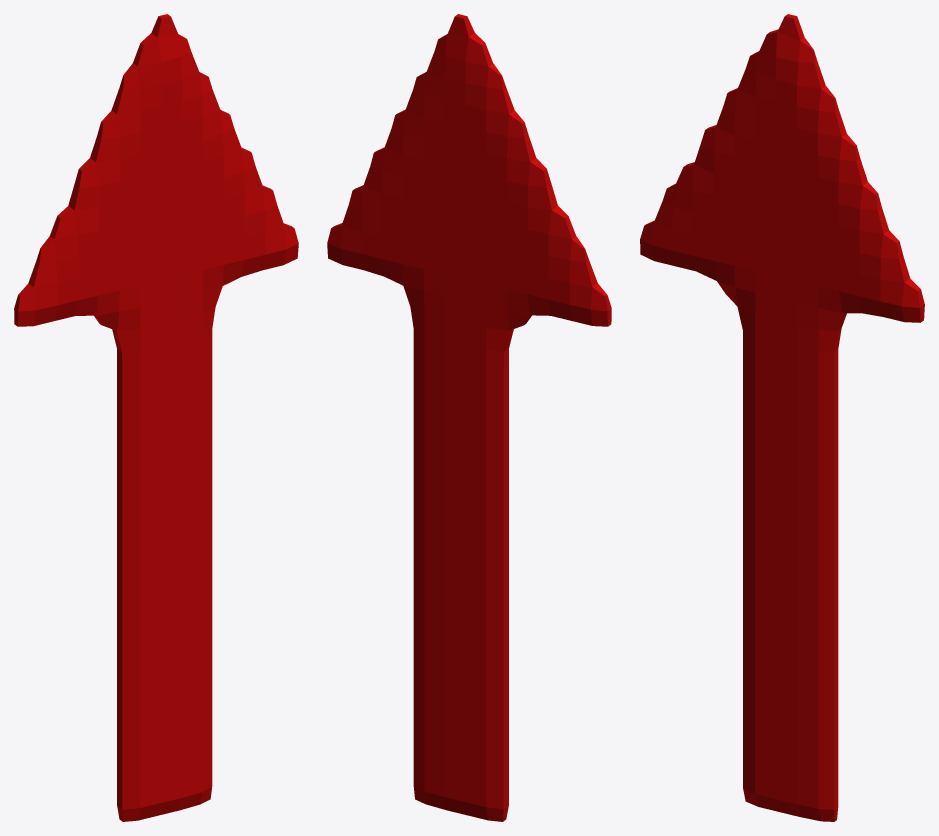
Rendered from remesh_original-3.obj.
3 renders of one model, left to right at view 1: azimuth 30°, elevation 25°; view 2: azimuth 150°, elevation 25°; view 3: azimuth 330°, elevation 25°, orthographic.
Visible parts, largest first — view 1: Group_3_1/Group_3/mesh5/mesh5-geometry#mesh5-geometry; view 2: Group_3_1/Group_3/mesh5/mesh5-geometry#mesh5-geometry; view 3: Group_3_1/Group_3/mesh5/mesh5-geometry#mesh5-geometry.
Part boxes in pixels (<box>): Group_3_1/Group_3/mesh5/mesh5-geometry#mesh5-geometry: <box>14,14,298,821</box>; Group_3_1/Group_3/mesh5/mesh5-geometry#mesh5-geometry: <box>327,14,611,821</box>; Group_3_1/Group_3/mesh5/mesh5-geometry#mesh5-geometry: <box>640,14,924,821</box>.
Size of the model in its own units: 0.1347 by 0.365 by 0.00857.
